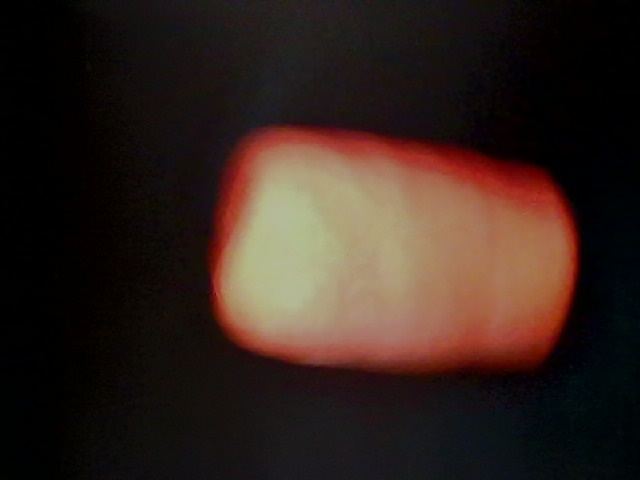YHLJ: (357, 347, 442, 454)
